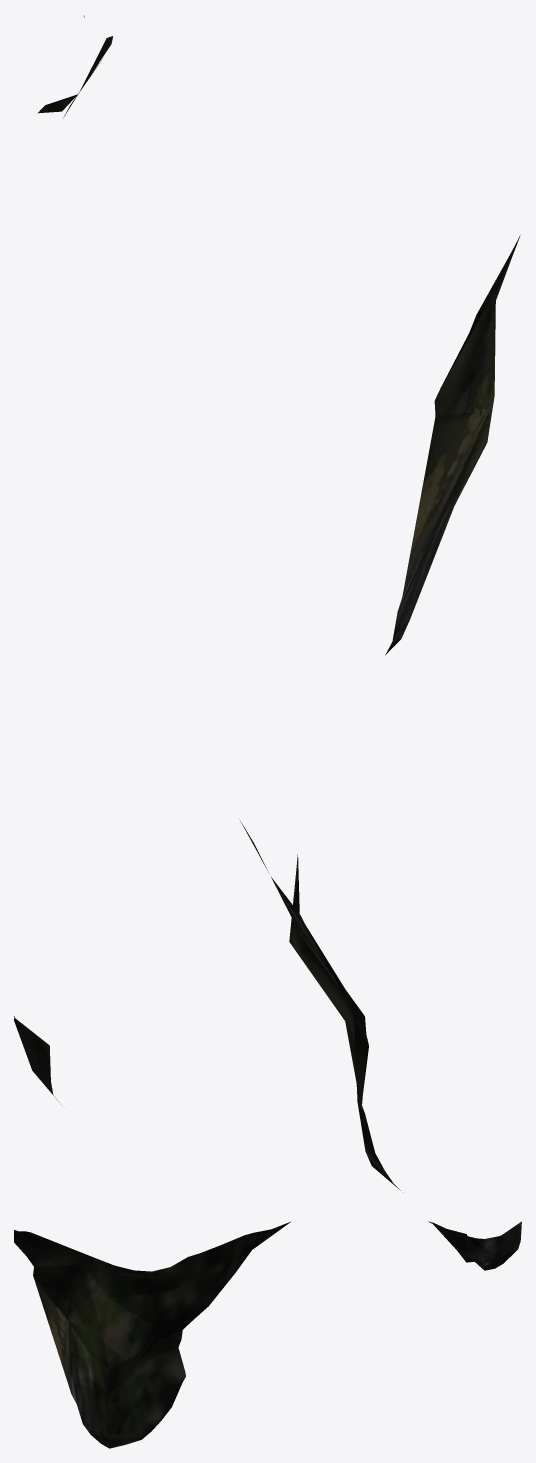
3 views of the same model, one above another, from view 1: azimuth 30°, elevation 25°; view 2: azimuth 150°, elevation 25°; view 3: azimuth 270°, elevation 25° (orthographic). The views are drawn at different scales.
Bounding box in the file's own units: 0.1439 × 0.3 × 0.615.
Materials: 1 (1 with a texture image).
